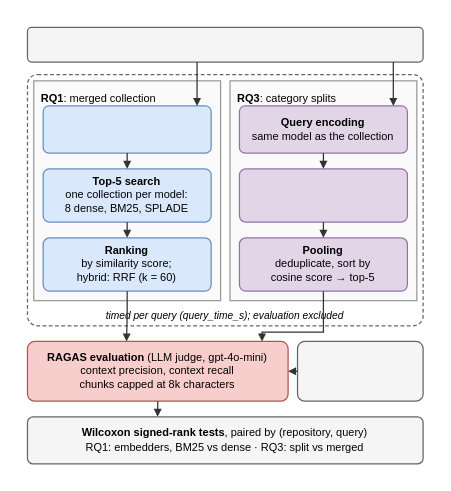
Image size: 451x491. Some labels were removed from this diagram. Here are the shapes that lost their labels. From the top down, the centre of each, then its label:
At (224,44): "Queries : 14 repositories, 183 questions + relevant files".
At (126,129): "Query encoding dense model, BM25 or SPLADE".
At (322,194): "Top-5 search × 3 _code, _prose, _config 6 dense models".
At (359,370): "Reference answers gpt-4o-mini from relevant files".
